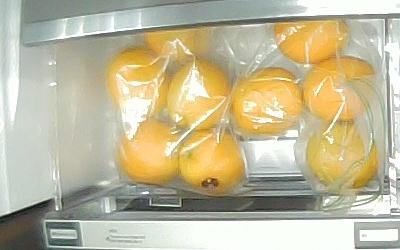orange_vinyl: (231, 67, 303, 135), (302, 57, 377, 122), (306, 122, 378, 188), (179, 128, 246, 196), (167, 59, 231, 130), (106, 47, 169, 117), (118, 118, 179, 181), (275, 19, 351, 64), (144, 27, 214, 60)
